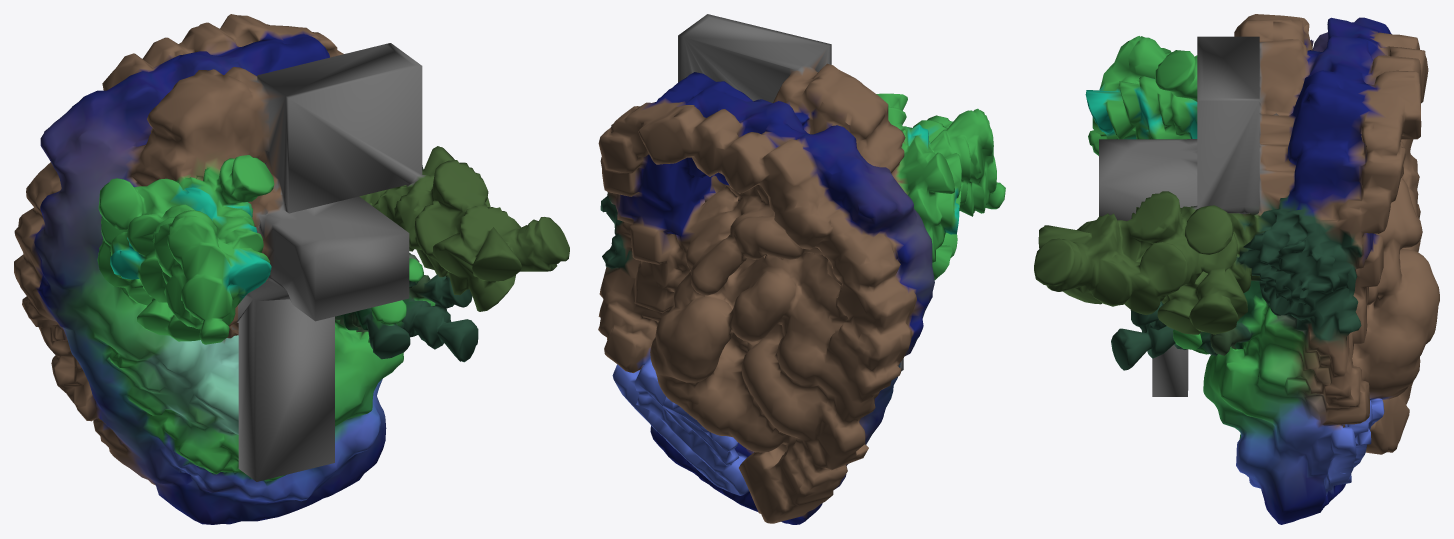
File: asset.glb
3 views of the same model, side by side, from view 1: azimuth 30°, elevation 25°; view 2: azimuth 150°, elevation 25°; view 3: azimuth 270°, elevation 25° (orthographic). The views are drawn at different scales.
Parts seen in each view (by area): view 1: defaultobject; view 2: defaultobject; view 3: defaultobject.
Boxes of the visible parts, x1=… form: defaultobject: x1=14, y1=14, x2=569, y2=524; defaultobject: x1=598, y1=14, x2=1005, y2=524; defaultobject: x1=1034, y1=14, x2=1439, y2=524.
Bounding box in the file's own units: 807 × 922 × 743.
